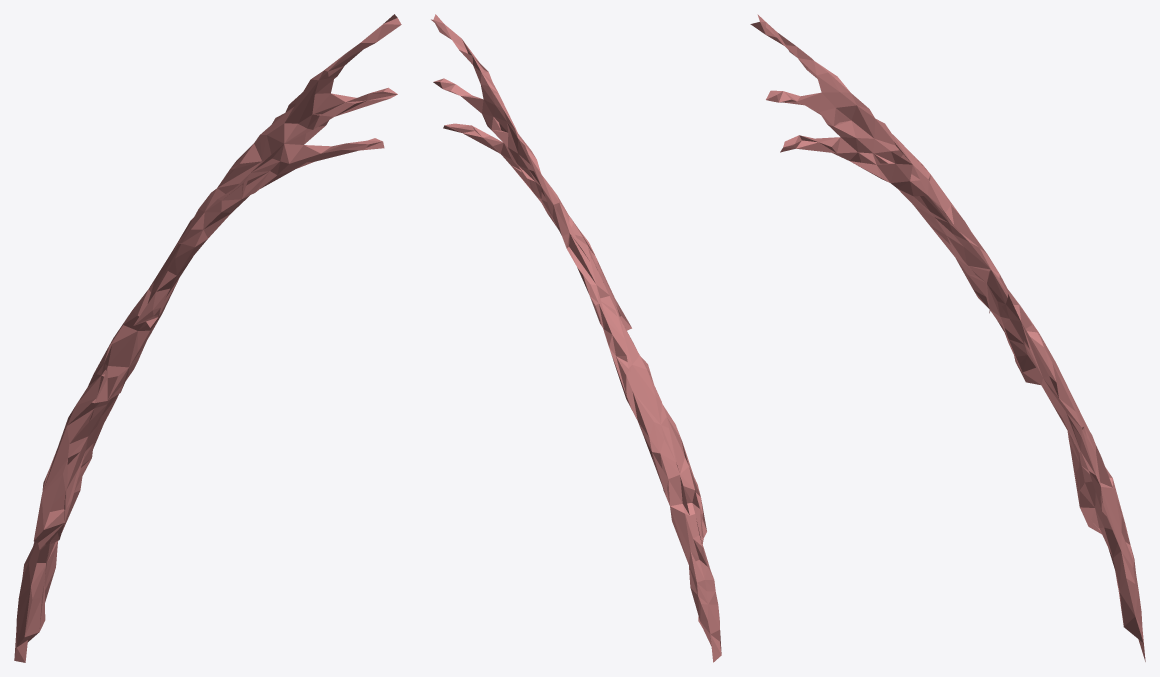
File: Iliocostalis_colli_muscle.r.glb
The picture shows the model from 3 angles, left to right: view 1: azimuth 30°, elevation 25°; view 2: azimuth 210°, elevation 25°; view 3: azimuth 270°, elevation 25°; orthographic projection. The views are drawn at different scales.
Parts seen in each view (by area): view 1: Iliocostalis_colli_muscle.r; view 2: Iliocostalis_colli_muscle.r; view 3: Iliocostalis_colli_muscle.r.
Part boxes in pixels (left/top/right/bottom): Iliocostalis_colli_muscle.r: left=14, top=14, right=401, bottom=662; Iliocostalis_colli_muscle.r: left=431, top=14, right=721, bottom=662; Iliocostalis_colli_muscle.r: left=750, top=14, right=1145, bottom=661.
Bounding box in the file's own units: 0.0476 × 0.1752 × 0.0863.
